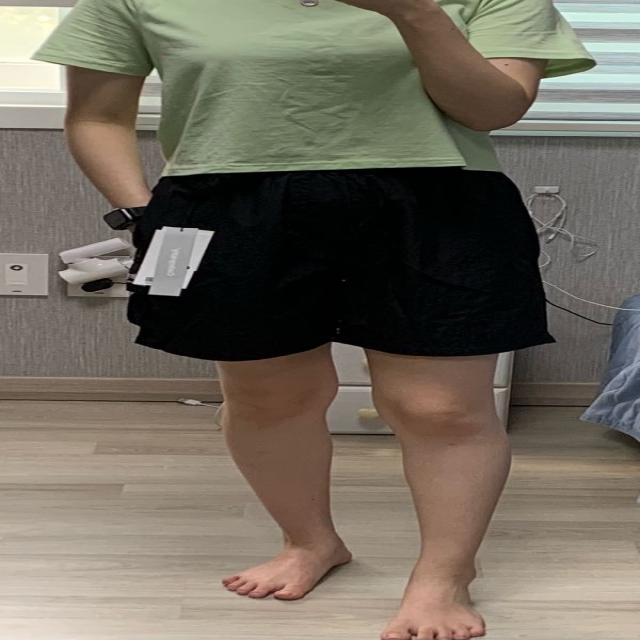shortpants: (128, 155, 563, 361)
shortsleeve: (42, 0, 612, 174)
